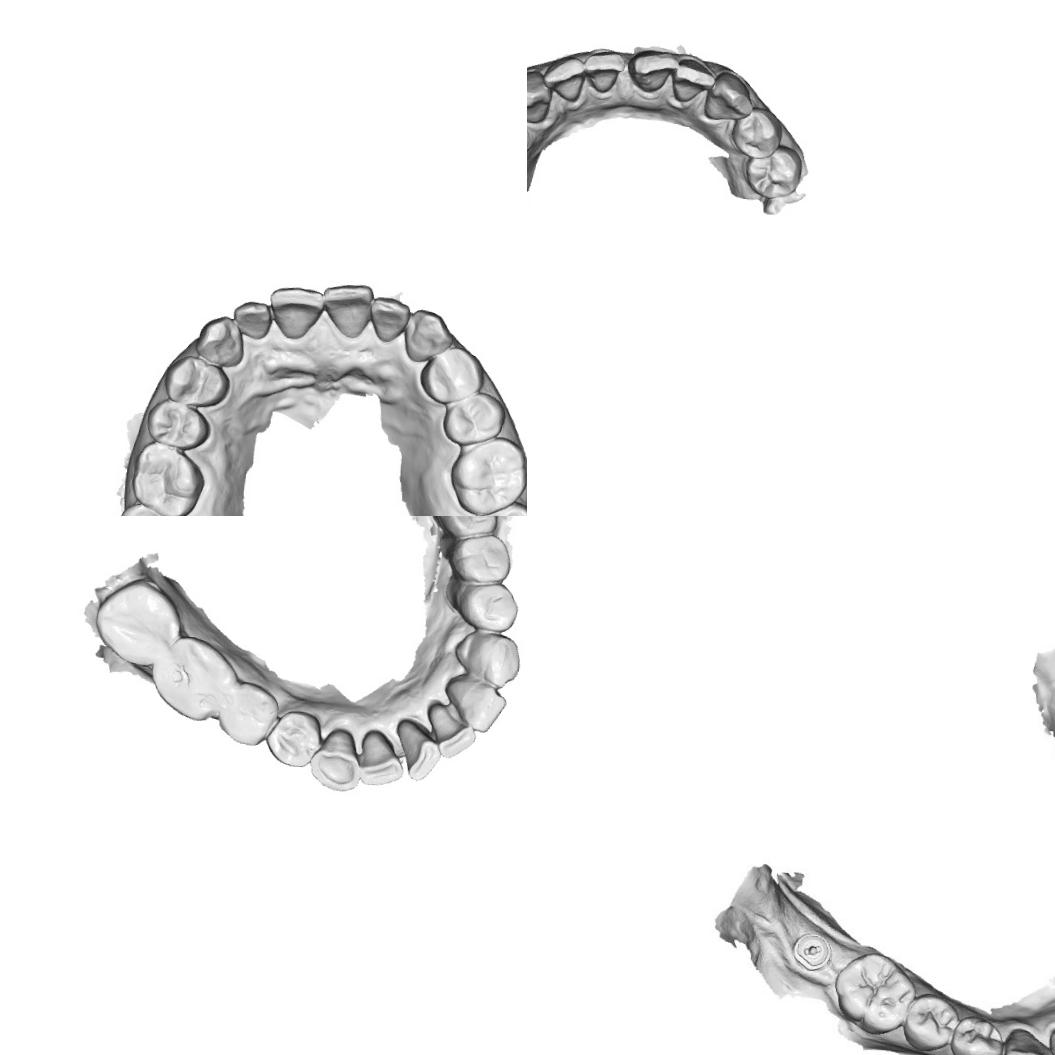canine: (450, 626, 524, 690), (306, 724, 363, 794), (700, 67, 759, 125), (192, 312, 247, 369), (401, 308, 456, 364), (527, 63, 555, 126), (999, 1024, 1055, 1055)
implant_minus: (788, 929, 832, 971)
incisor: (439, 673, 510, 734), (350, 725, 408, 788), (420, 698, 478, 760), (390, 714, 444, 780), (266, 284, 326, 342), (320, 279, 375, 340), (626, 42, 678, 96), (668, 53, 719, 108), (577, 48, 627, 95), (541, 50, 586, 102), (368, 294, 412, 344), (230, 297, 274, 340)
molar: (90, 572, 185, 673), (146, 630, 241, 727), (829, 946, 917, 1038), (447, 434, 527, 516), (129, 438, 209, 516), (435, 516, 502, 540)
premolar: (214, 678, 282, 750), (417, 343, 486, 407), (438, 389, 508, 447), (161, 353, 232, 409), (452, 580, 520, 636), (900, 990, 959, 1054), (144, 397, 212, 452), (264, 708, 324, 769), (449, 530, 514, 586), (725, 106, 786, 162), (742, 142, 804, 197), (948, 1013, 1006, 1055)
